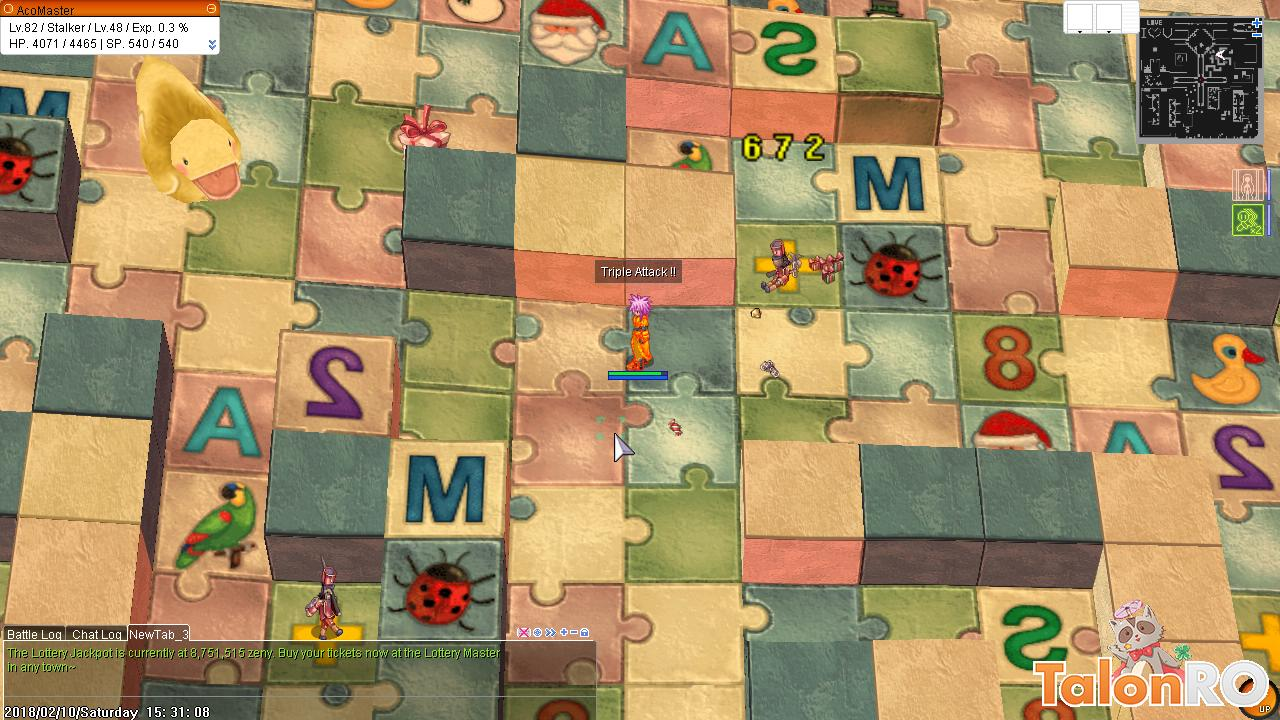loot: (666, 414, 690, 443), (759, 356, 784, 380), (748, 300, 762, 325)
mob: (302, 553, 347, 641)
myst_case: (390, 100, 454, 154)
